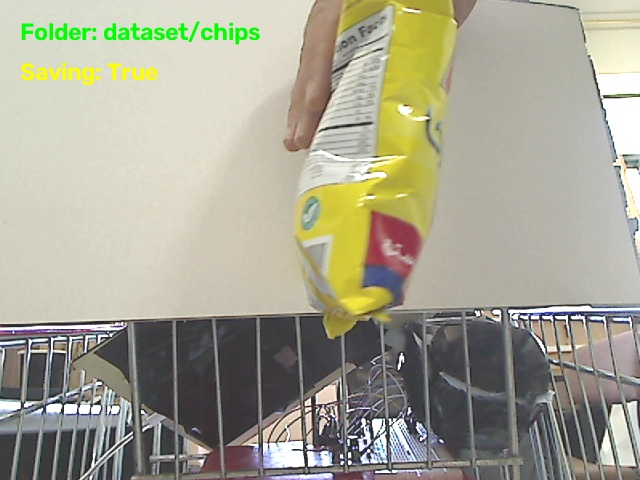chips: (295, 0, 456, 337)
